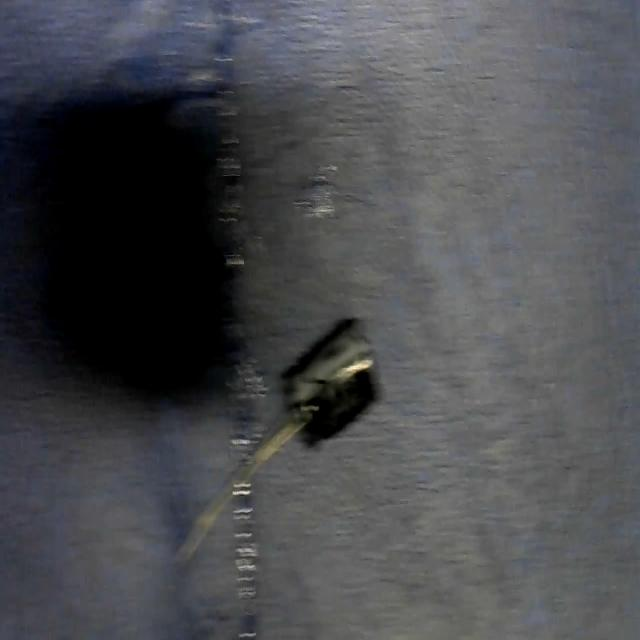capacitor: (167, 318, 382, 571)
